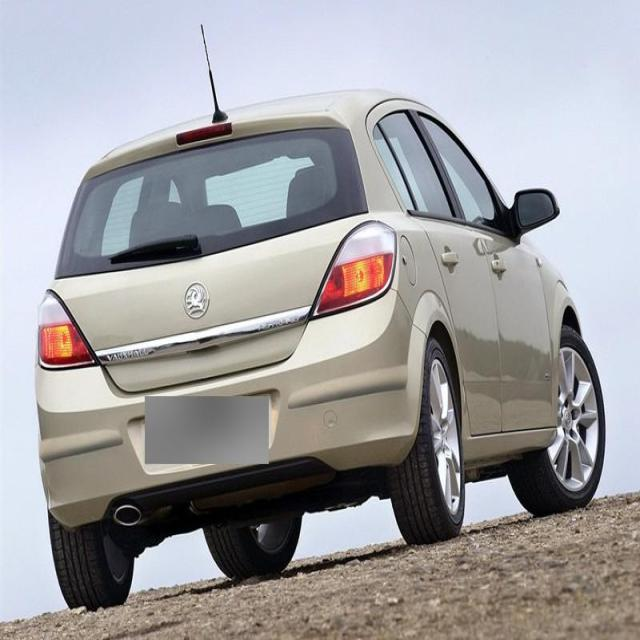back_glass: (55, 125, 369, 278)
back_left_side_light: (36, 284, 98, 372)
back_right_side_light: (310, 218, 398, 320)
front_right_side_door: (408, 96, 562, 436)
front_right_side_mirror: (508, 183, 559, 238)
rear_bumper: (31, 279, 434, 527)
wheel: (508, 332, 606, 512), (394, 339, 463, 544), (46, 516, 140, 606), (200, 523, 302, 578)
